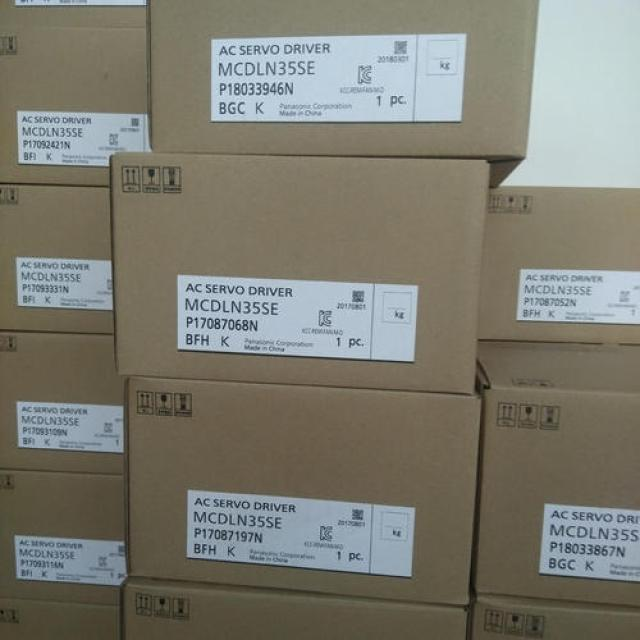box: (109, 151, 489, 396), (124, 376, 480, 607), (145, 0, 539, 187), (474, 339, 640, 607), (0, 0, 154, 187), (479, 187, 640, 346), (120, 576, 468, 640), (0, 330, 124, 474), (0, 183, 114, 337), (0, 470, 124, 609), (468, 593, 640, 640), (0, 602, 122, 640)
